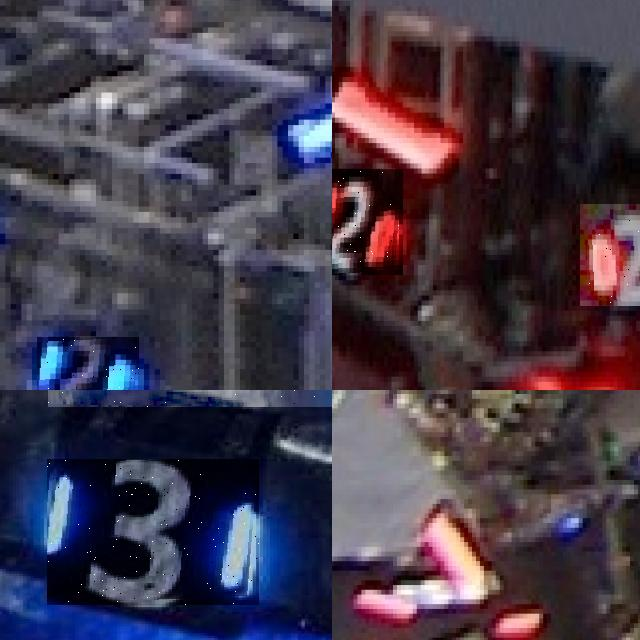B2: (37, 336, 138, 390)
B3: (48, 459, 260, 605)
R2: (332, 168, 402, 275), (579, 204, 640, 305)
